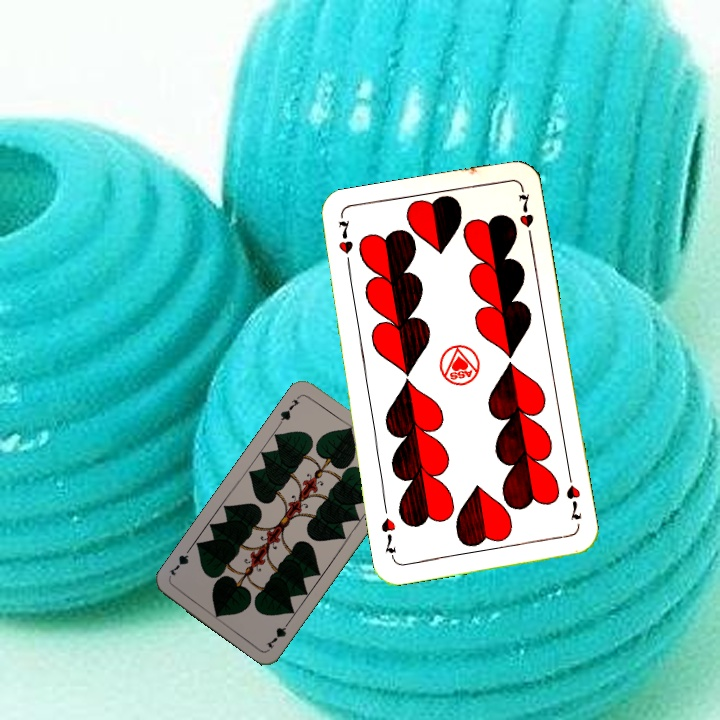G7: (262, 616, 293, 652), (275, 391, 303, 427)
H7: (562, 470, 585, 523), (334, 216, 355, 273)
